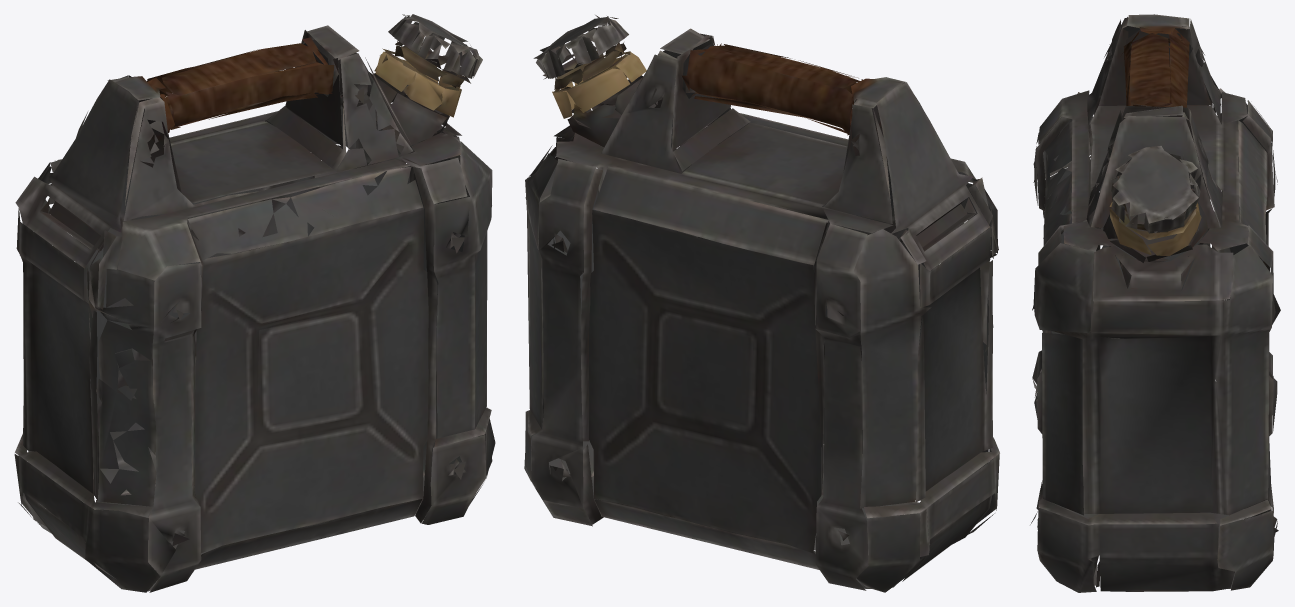
The model's file is pro_fuel_canister.glb.
The picture shows the model from 3 angles, left to right: view 1: azimuth 30°, elevation 25°; view 2: azimuth 150°, elevation 25°; view 3: azimuth 270°, elevation 25°; orthographic projection. The views are drawn at different scales.
Visible parts, largest first — view 1: MetricPlacement; view 2: MetricPlacement; view 3: MetricPlacement.
Boxes of the visible parts, x1,y1,x2,y2 form: MetricPlacement: (14,14,495,592); MetricPlacement: (524,15,999,592); MetricPlacement: (1030,14,1280,592).
Size of the model in its own units: 0.2886 by 0.3 by 0.1557.
Materials: 1 (1 with a texture image).
